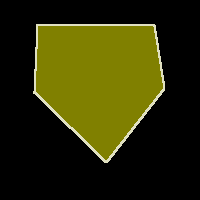tie: (34, 25, 164, 162)
